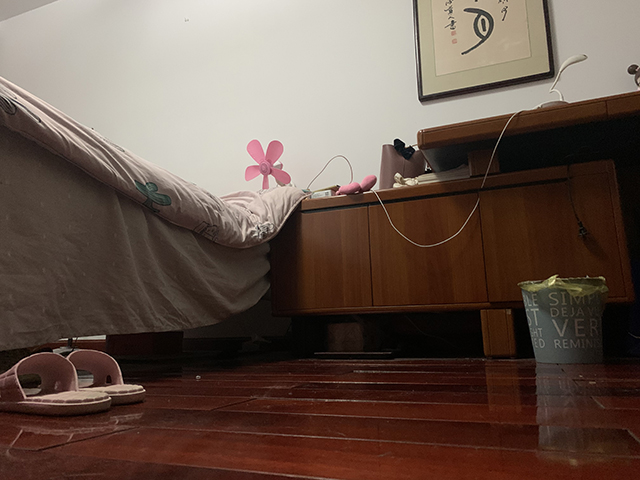bed: (1, 75, 312, 350)
slippers: (1, 346, 148, 417)
table: (266, 89, 640, 363)
trashcan: (517, 273, 609, 367)
